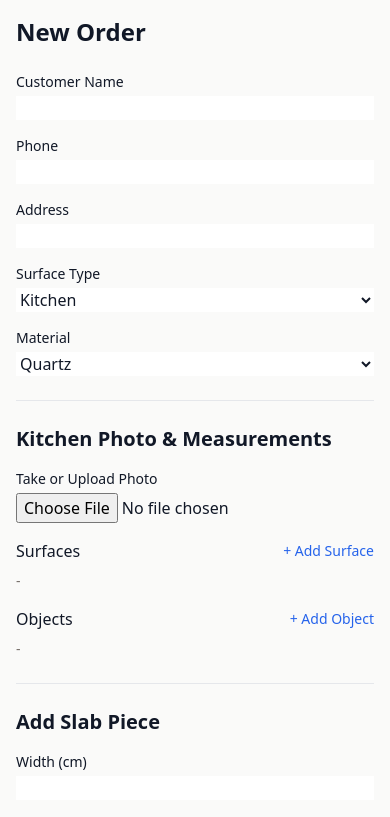
NewOrderPage kitchen section › allows adding a surface from the kitchen section
Click the button "+ Add Surface" at (329, 551), box [283, 541, 374, 561]
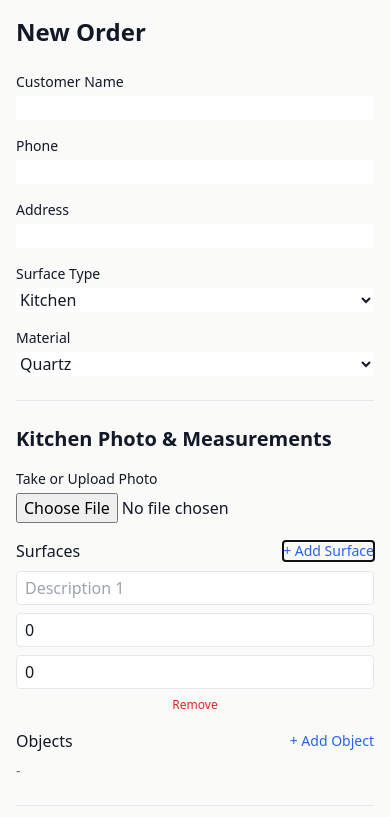
Result: the number of fields with placeholder "Description 1" is 1 at [16, 571, 374, 605]
